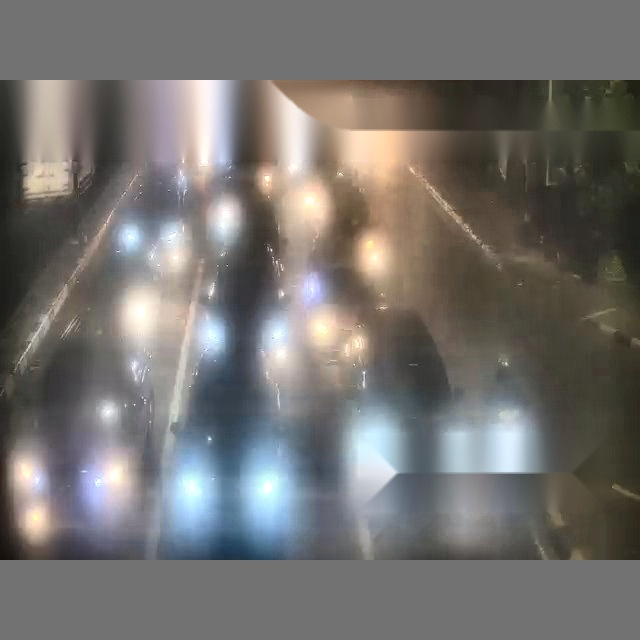Mobil: (156, 298, 304, 557)
Motor: (358, 228, 391, 300)
